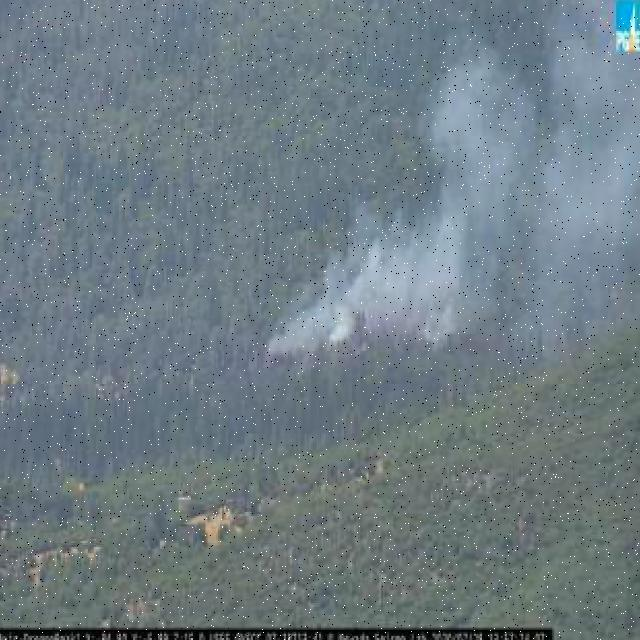smoke: (253, 78, 640, 380)
